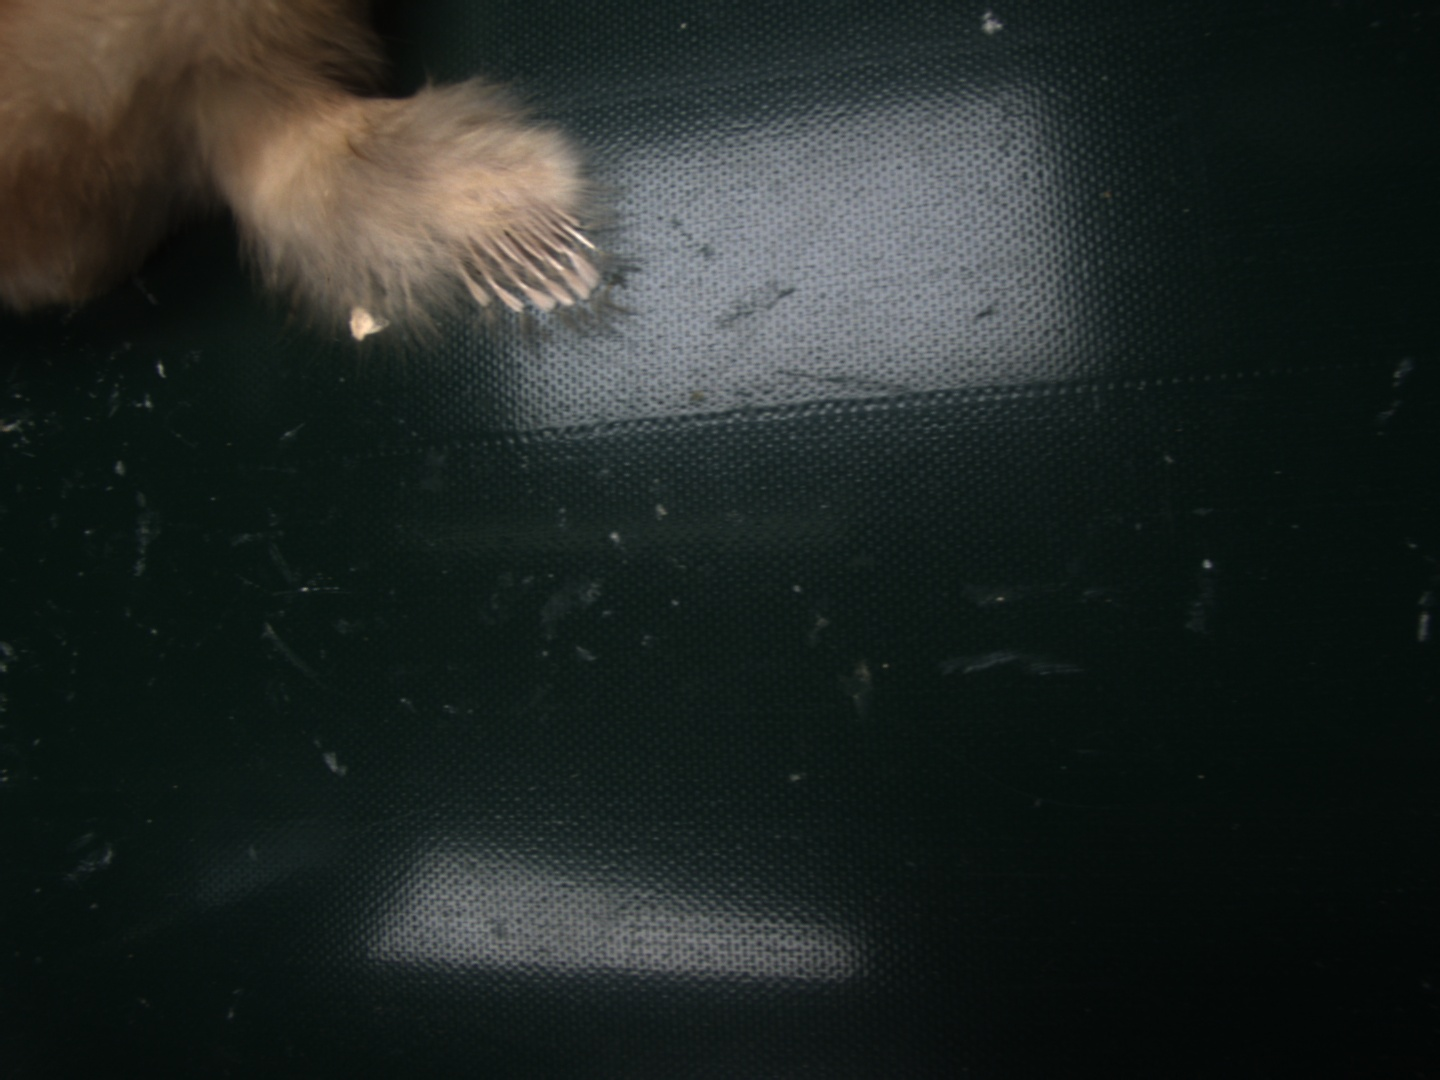female: (437, 202, 601, 315)
